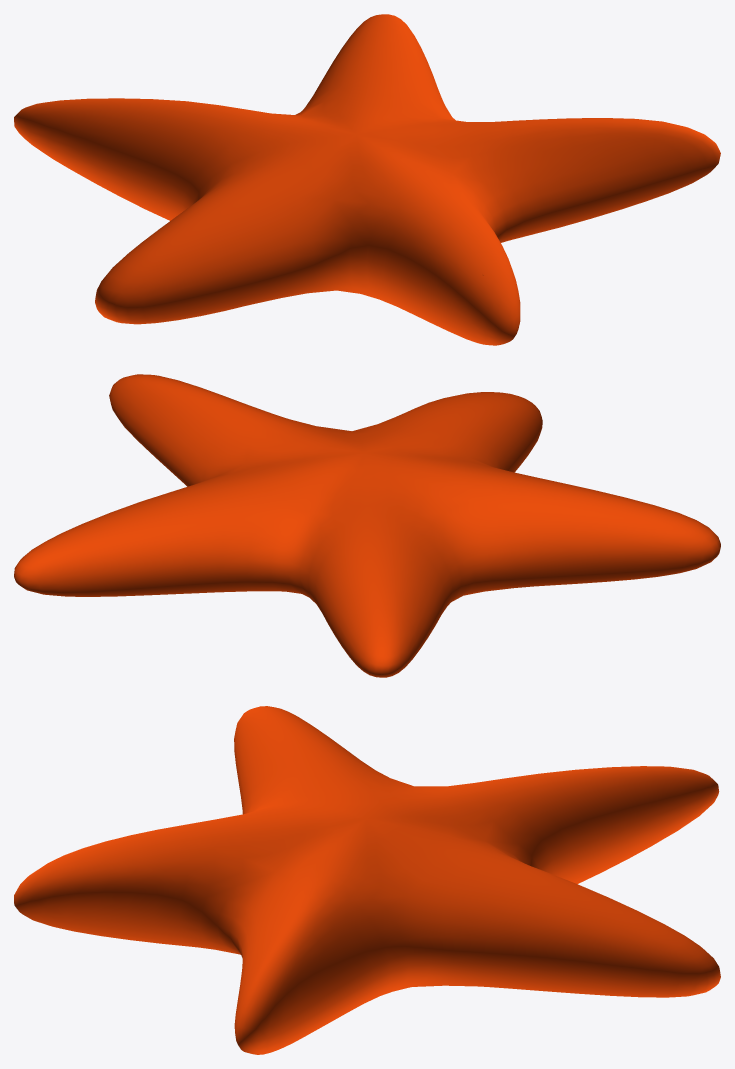
The model's file is Starfish.glb.
3 renders of one model, top to bottom at view 1: azimuth 30°, elevation 25°; view 2: azimuth 150°, elevation 25°; view 3: azimuth 270°, elevation 25°, orthographic. The views are drawn at different scales.
Visible parts, largest first — view 1: Starfish_1; view 2: Starfish_1; view 3: Starfish_1.
Boxes of the visible parts, x1=… form: Starfish_1: x1=14, y1=14, x2=720, y2=345; Starfish_1: x1=14, y1=374, x2=720, y2=677; Starfish_1: x1=14, y1=706, x2=720, y2=1054.
Bounding box in the file's own units: 433 × 76.82 × 394.
